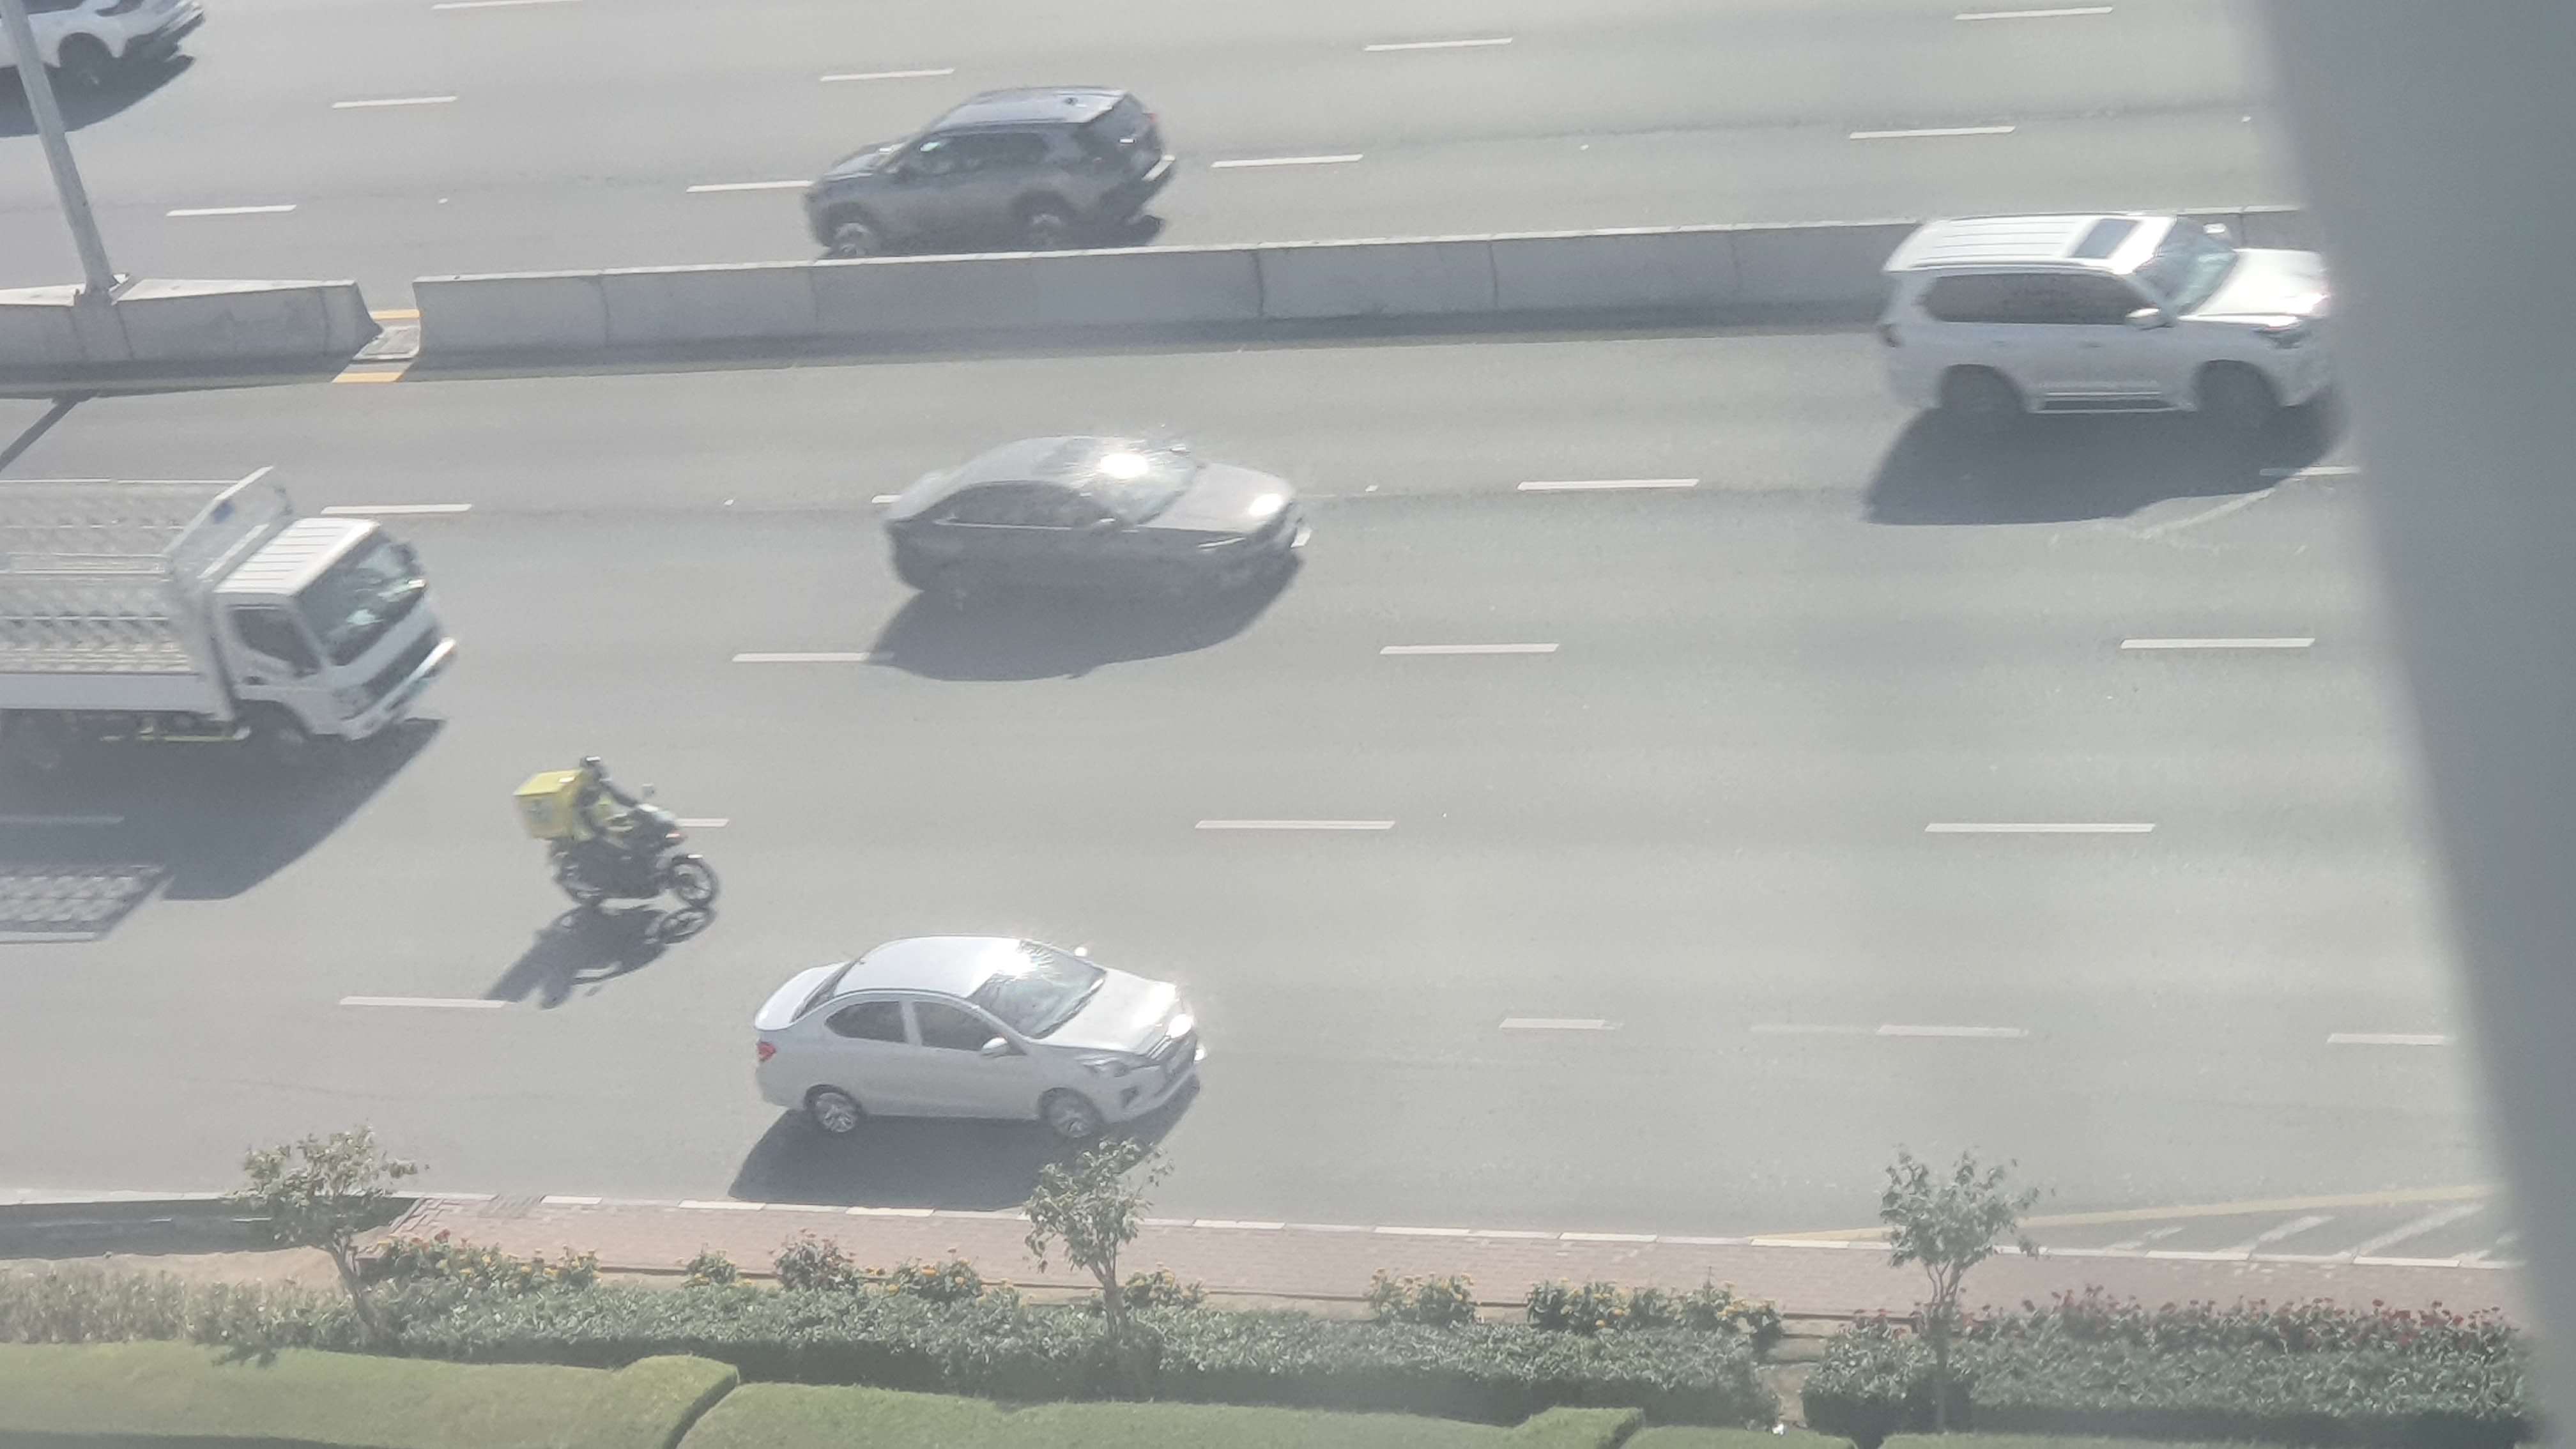NotSunroof: (748, 931, 1208, 1154)
Sunroof: (1888, 205, 2342, 442), (872, 419, 1311, 642)
